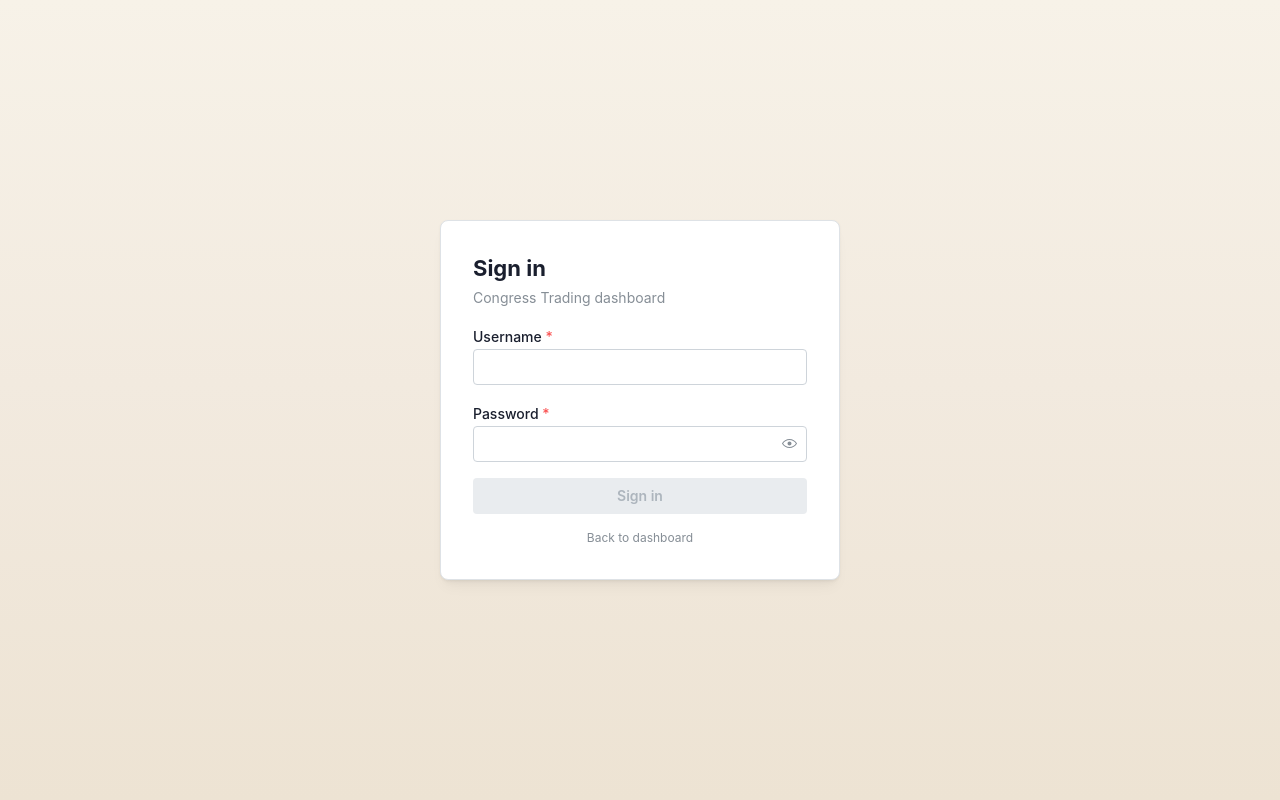
it: Login › shows a 401-specific error and clears the password on bad credentials
The image size is (1280, 800).
Type "admin" into the field labelled "Username *" at (640, 367), box [473,349,807,385]
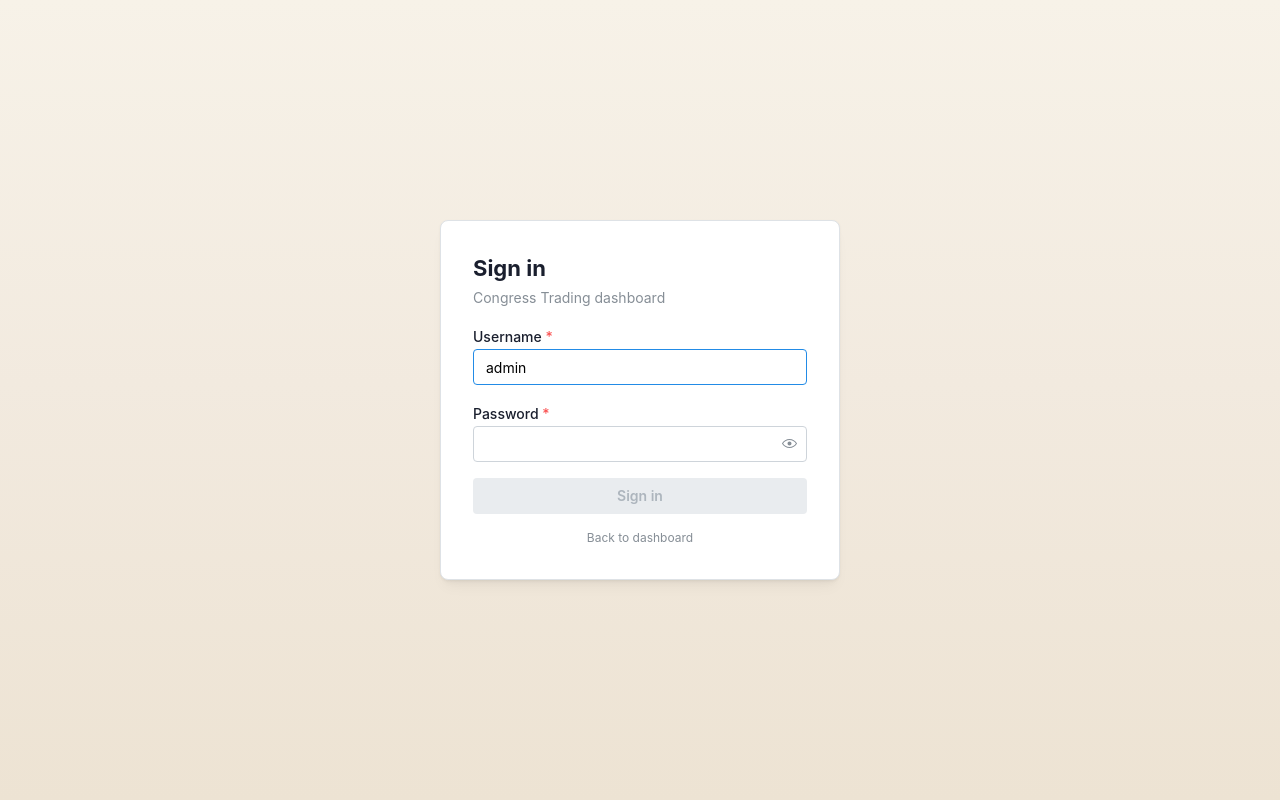
Type "wrong" into the password field labelled "Password *" at (640, 444), box [474,427,806,461]
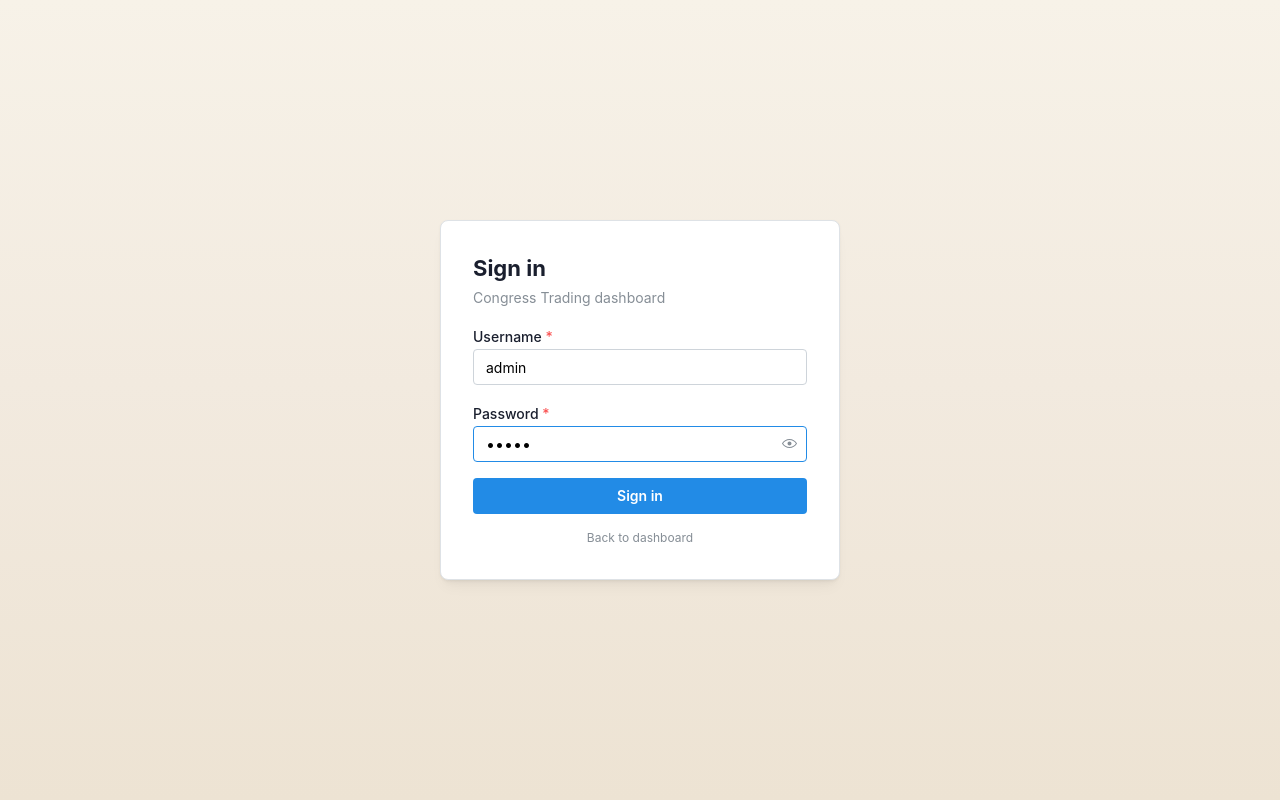
Click the button "Sign in" at (640, 496), box [473,478,807,514]
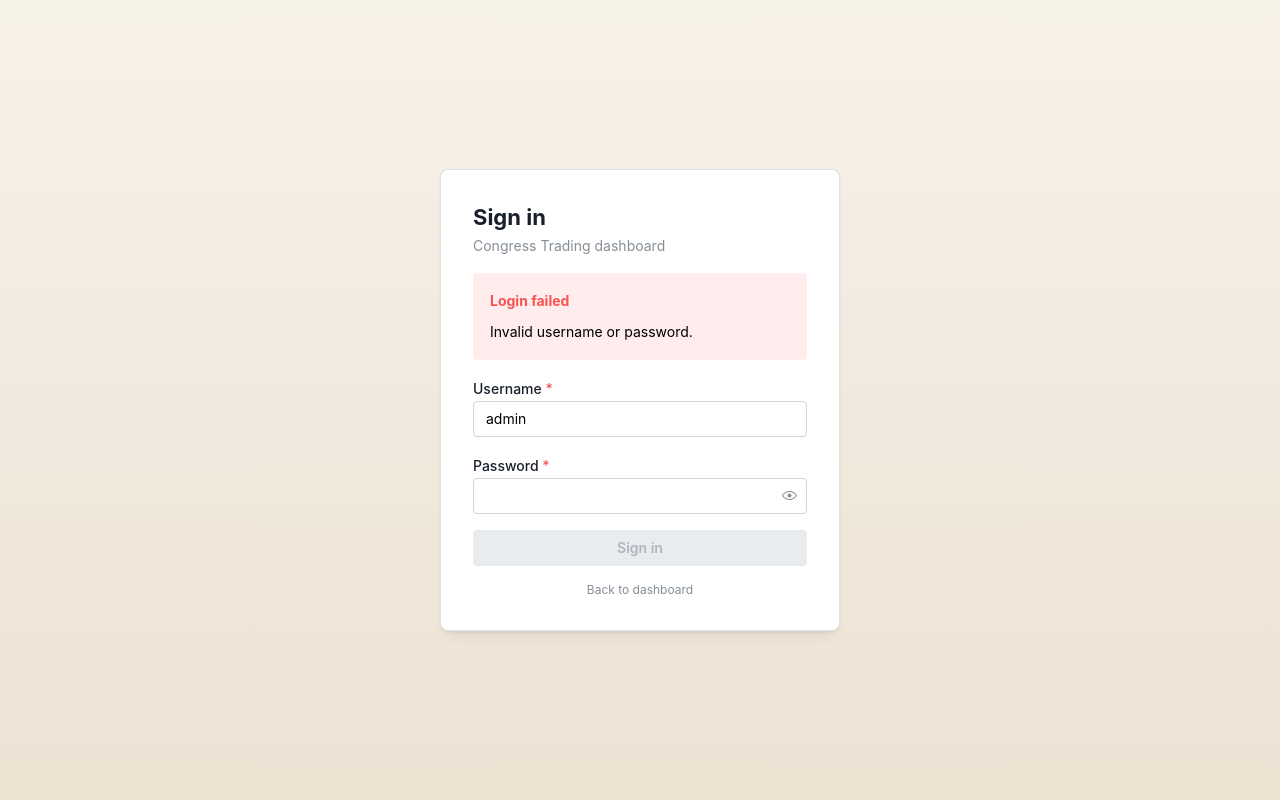
Check: the message with test id "login-error" shows "Invalid username or password", box [490,323,693,340]
Check: the password field labelled "Password *" is empty, box [474,479,806,513]
